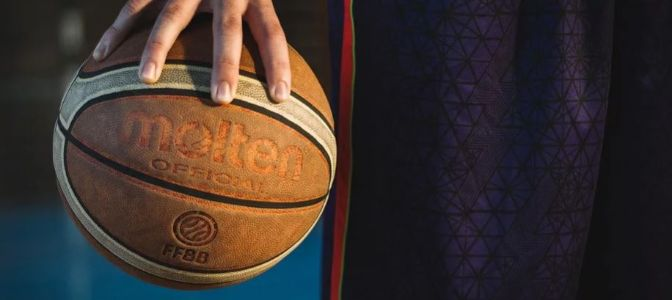baloncesto: (53, 13, 337, 291)
